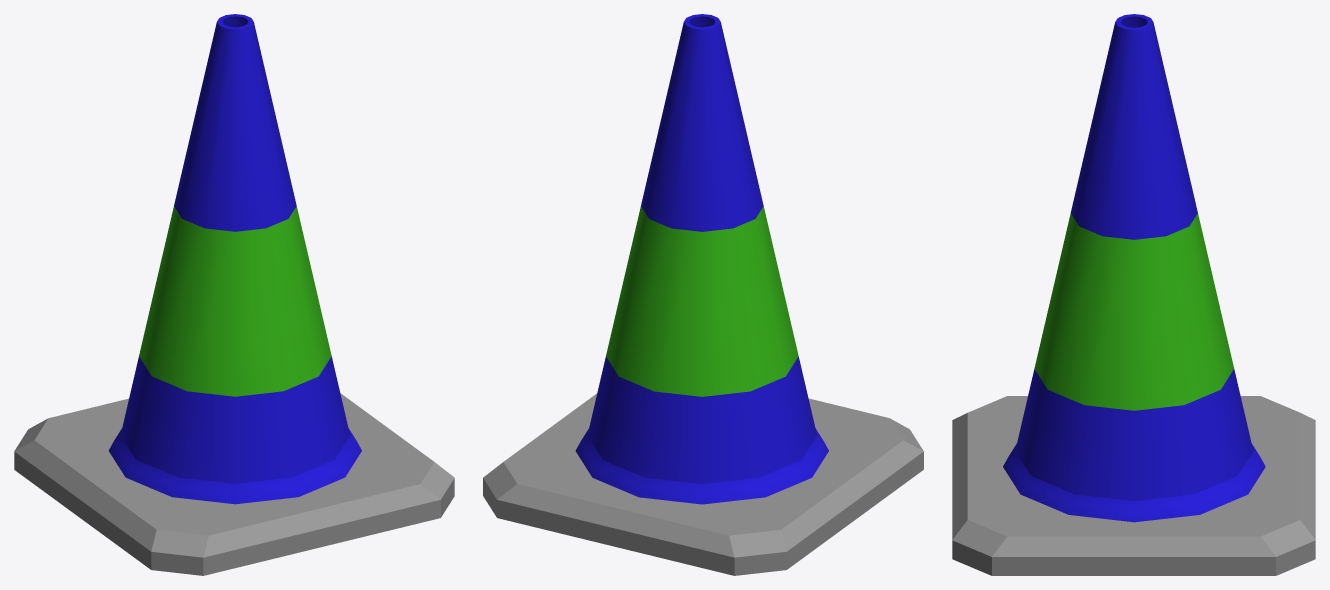
The model's file is Verkeerskegel1_Export.FBX.
3 views of the same model, side by side, from view 1: azimuth 30°, elevation 25°; view 2: azimuth 150°, elevation 25°; view 3: azimuth 270°, elevation 25° (orthographic). The views are drawn at different scales.
Parts seen in each view (by area): view 1: VerkeersKegel; view 2: VerkeersKegel; view 3: VerkeersKegel.
Boxes of the visible parts, box(x1,y1,x2,y2) form: VerkeersKegel: box(14, 14, 454, 575); VerkeersKegel: box(483, 14, 923, 575); VerkeersKegel: box(952, 14, 1315, 575).
Bounding box in the file's own units: 30 × 43.5 × 30.
